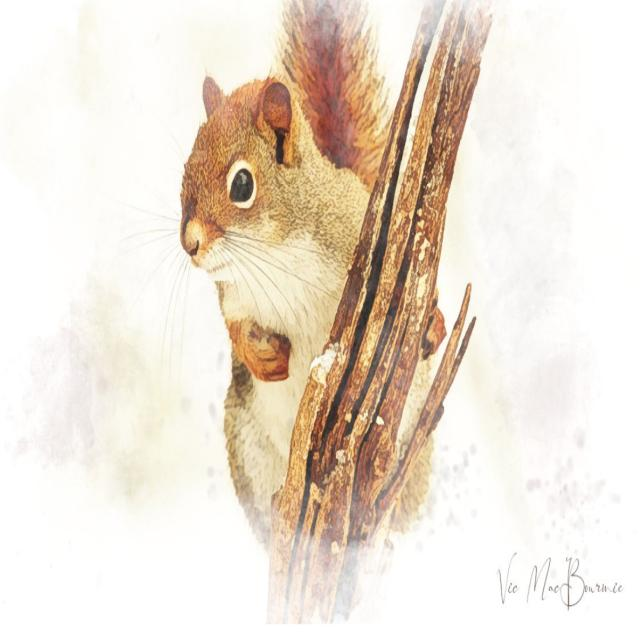Squirrel: (178, 17, 458, 536)
